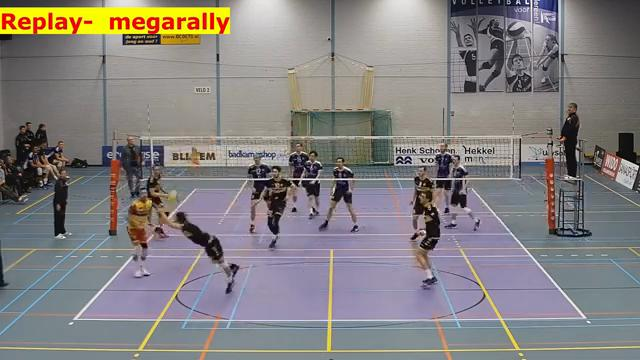difesa: (154, 204, 243, 297)
